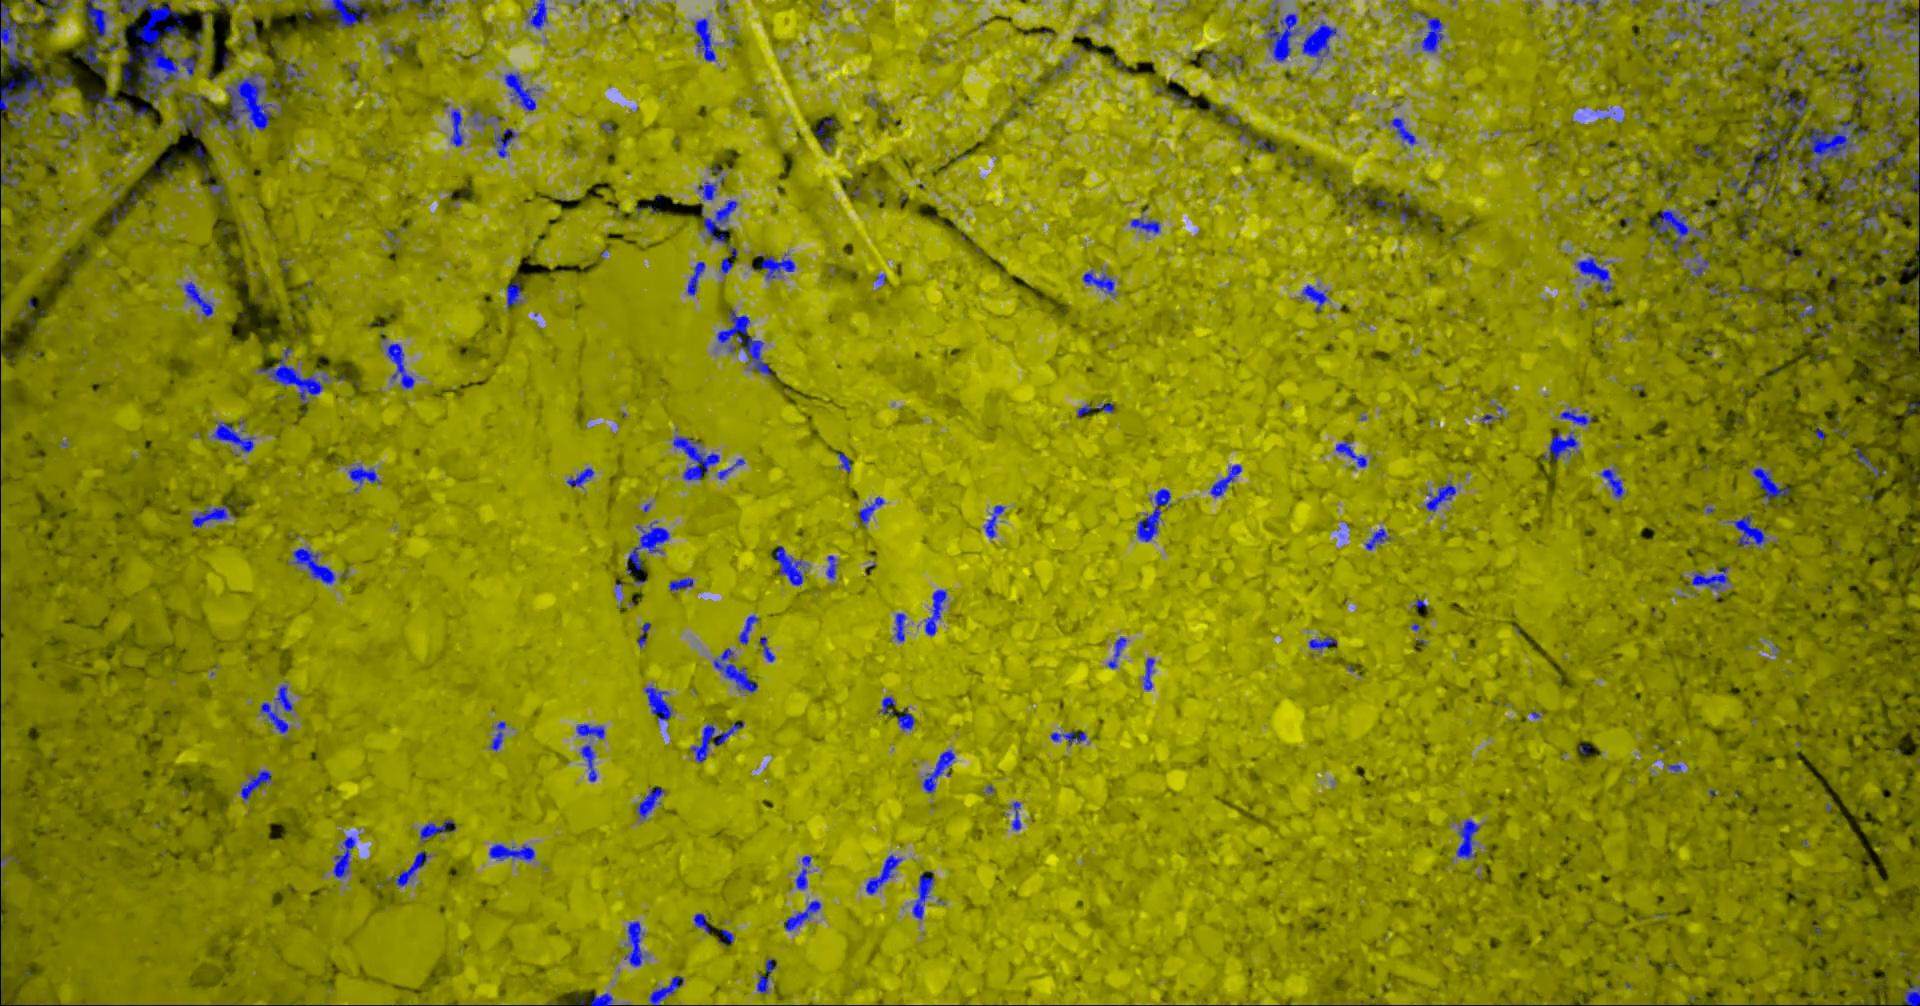ant: (257, 347, 328, 403), (716, 309, 771, 379), (75, 0, 119, 74), (1835, 151, 1903, 198), (88, 91, 149, 131), (690, 720, 743, 762), (625, 523, 669, 573), (672, 434, 719, 480), (712, 647, 757, 692), (1857, 197, 1909, 235), (703, 199, 737, 257), (1137, 488, 1170, 541), (1650, 210, 1690, 251), (291, 547, 334, 584), (1267, 13, 1299, 61), (865, 854, 902, 894), (772, 545, 808, 586), (1302, 20, 1336, 62), (921, 749, 954, 793), (211, 420, 254, 452), (504, 72, 540, 111), (1769, 86, 1808, 119), (385, 343, 414, 387), (1726, 514, 1766, 546), (395, 851, 430, 887), (1575, 257, 1611, 291), (1751, 467, 1789, 500), (326, 0, 370, 28), (183, 281, 213, 318), (1843, 64, 1870, 103), (783, 901, 820, 930), (1209, 464, 1241, 497), (923, 589, 946, 635), (912, 871, 933, 920), (1543, 431, 1578, 460), (648, 976, 683, 1005), (1417, 11, 1443, 52), (644, 685, 672, 721), (756, 253, 794, 279), (331, 836, 356, 878), (693, 18, 716, 61), (623, 921, 645, 967), (1425, 480, 1455, 511), (636, 788, 664, 821), (1691, 565, 1730, 589), (1455, 819, 1479, 857), (240, 770, 270, 799), (1335, 439, 1366, 467), (190, 504, 231, 526), (1855, 447, 1883, 478), (259, 702, 287, 733), (179, 104, 204, 136), (1779, 234, 1804, 265), (488, 843, 535, 860), (1884, 107, 1903, 147), (1082, 271, 1114, 295), (1785, 50, 1813, 76), (41, 0, 66, 29), (858, 495, 884, 525), (756, 958, 776, 993), (983, 506, 1004, 539), (1390, 117, 1416, 145), (1792, 293, 1817, 321), (1302, 285, 1327, 311), (419, 821, 455, 840), (493, 128, 516, 158), (1600, 467, 1623, 497), (738, 614, 759, 644), (526, 0, 547, 29), (1107, 636, 1126, 668), (347, 466, 380, 484), (580, 744, 596, 782), (716, 459, 744, 479), (687, 260, 703, 295), (794, 855, 810, 889), (0, 156, 18, 188), (1077, 401, 1114, 417), (1364, 528, 1389, 550), (1559, 409, 1592, 426), (1050, 730, 1086, 746), (450, 109, 463, 146), (566, 467, 593, 486), (1911, 274, 1919, 340), (489, 720, 505, 751), (274, 685, 292, 711), (385, 0, 422, 13), (1308, 635, 1336, 652), (208, 179, 227, 203), (1903, 163, 1919, 192), (1130, 217, 1159, 232), (575, 723, 604, 738), (815, 118, 839, 136), (897, 706, 914, 730), (758, 635, 775, 661), (1142, 657, 1154, 690), (505, 281, 521, 306), (697, 180, 716, 199), (893, 614, 905, 641), (1738, 208, 1756, 227), (877, 696, 895, 715), (1890, 0, 1905, 22), (1903, 983, 1919, 1005), (1368, 196, 1390, 210), (1398, 194, 1408, 225), (693, 913, 709, 934), (668, 577, 692, 589), (637, 622, 650, 647), (1909, 9, 1919, 38), (284, 64, 303, 79), (589, 992, 612, 1005), (1255, 137, 1275, 151), (1691, 259, 1708, 276), (182, 93, 207, 103), (837, 452, 850, 473), (1011, 801, 1020, 829), (1695, 144, 1714, 156), (825, 555, 836, 578), (385, 42, 403, 55), (719, 257, 731, 274), (471, 109, 485, 124), (720, 929, 733, 944), (0, 930, 3, 1005), (1223, 114, 1239, 124)
